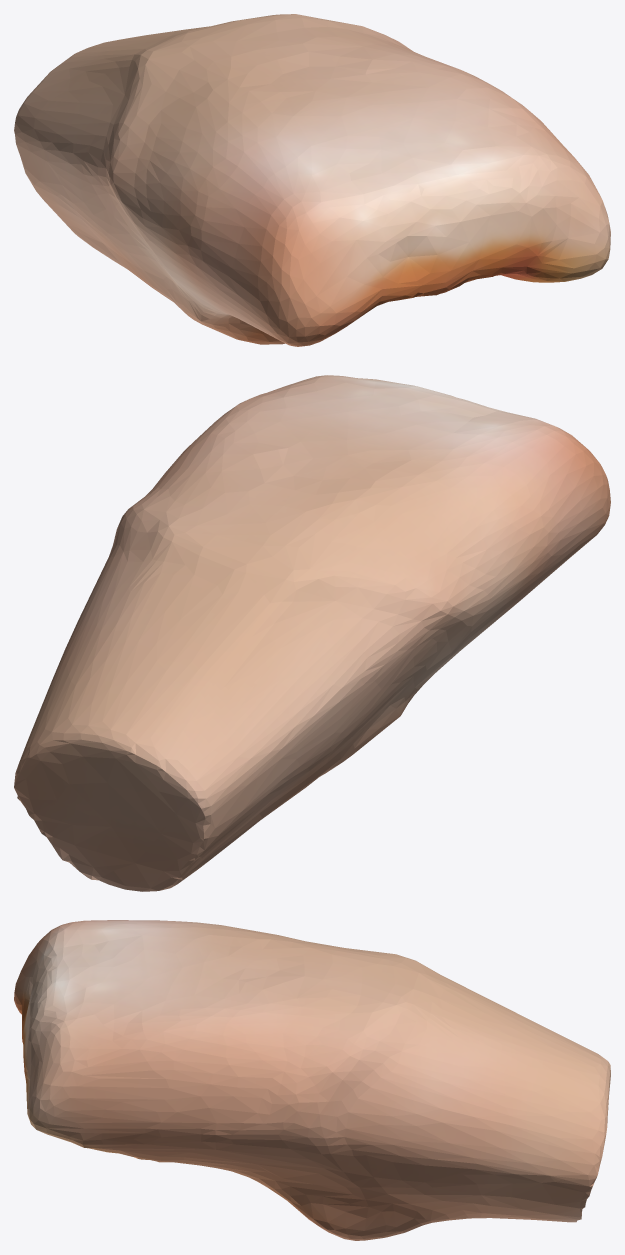
File: local_t41_7780.OBJ
3 views of the same model, one above another, from view 1: azimuth 30°, elevation 25°; view 2: azimuth 150°, elevation 25°; view 3: azimuth 270°, elevation 25° (orthographic). The views are drawn at different scales.
Parts seen in each view (by area): view 1: ZBrush_defualt_group; view 2: ZBrush_defualt_group; view 3: ZBrush_defualt_group.
Part boxes in pixels (x1,y1,x2,y2): ZBrush_defualt_group: (14,14,610,346); ZBrush_defualt_group: (14,375,610,891); ZBrush_defualt_group: (14,920,610,1240).
Bounding box in the file's own units: 5.9 × 4.96 × 10.43.
1 material, 1 textured.
